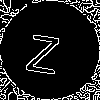Z: (25, 25, 62, 75)
